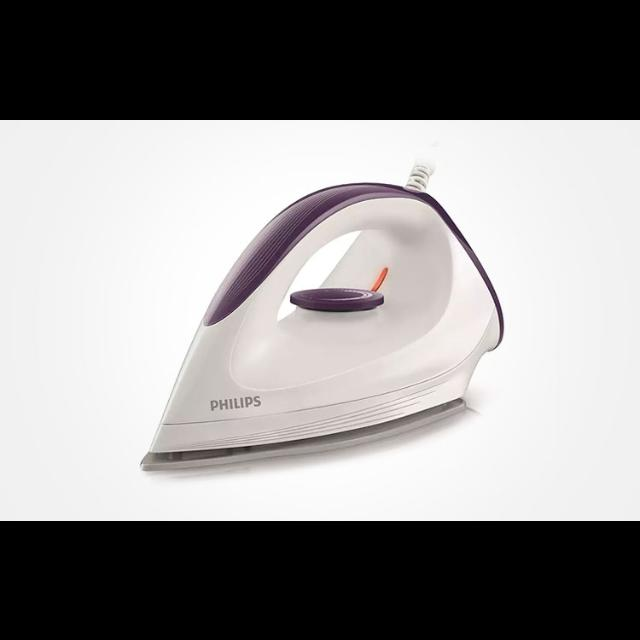Clothes-Iron: (177, 178, 523, 452), (175, 187, 520, 449)
